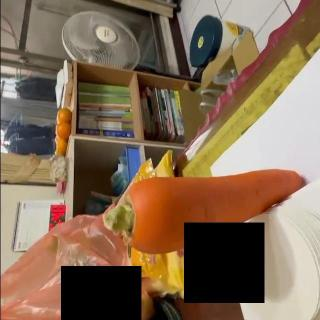carrot: (107, 160, 307, 251)
